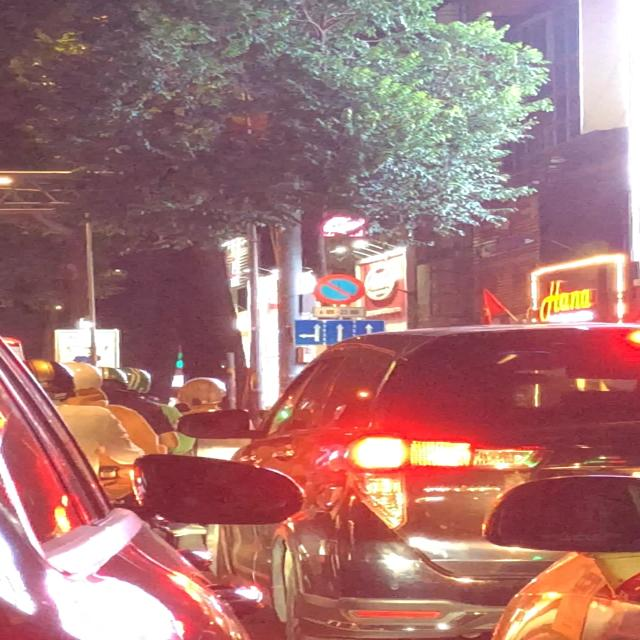Bien bao cam do xe: (310, 272, 368, 306)
